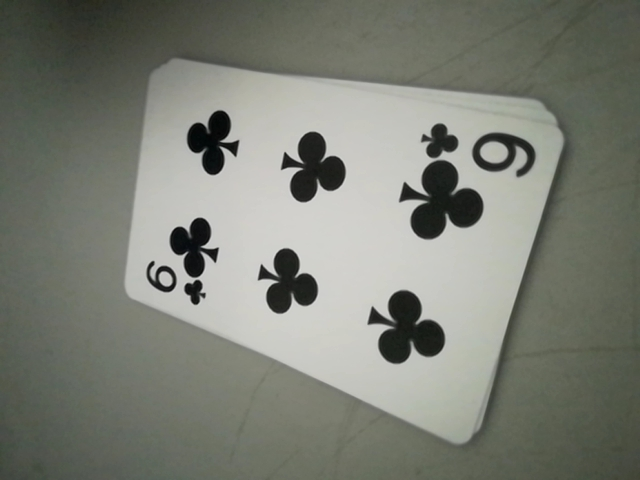mh 6: (421, 120, 543, 172), (140, 261, 211, 311)
